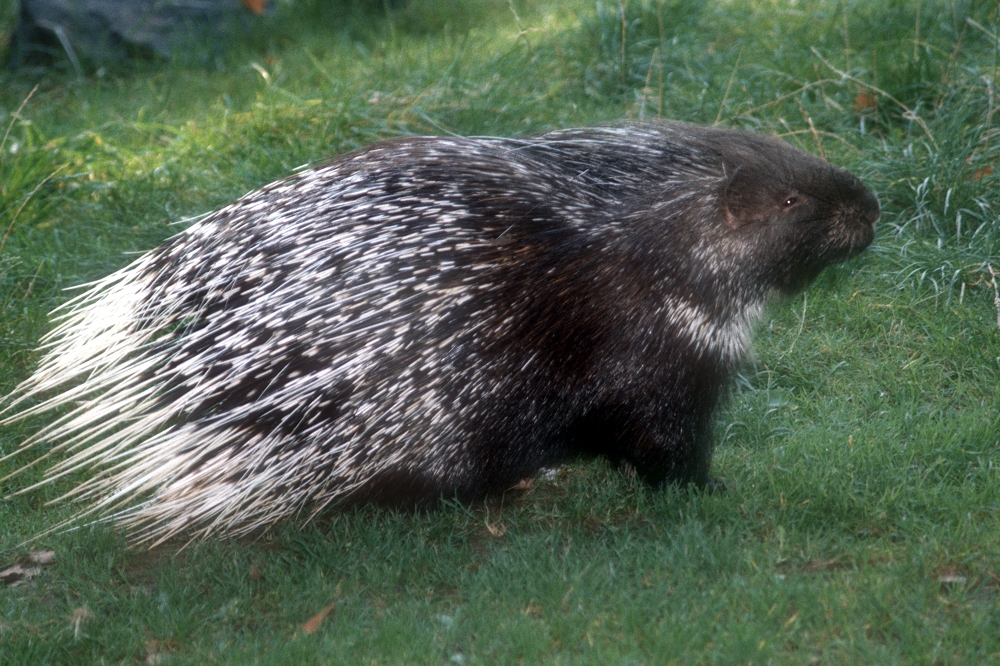porcupine: (21, 97, 916, 554)
